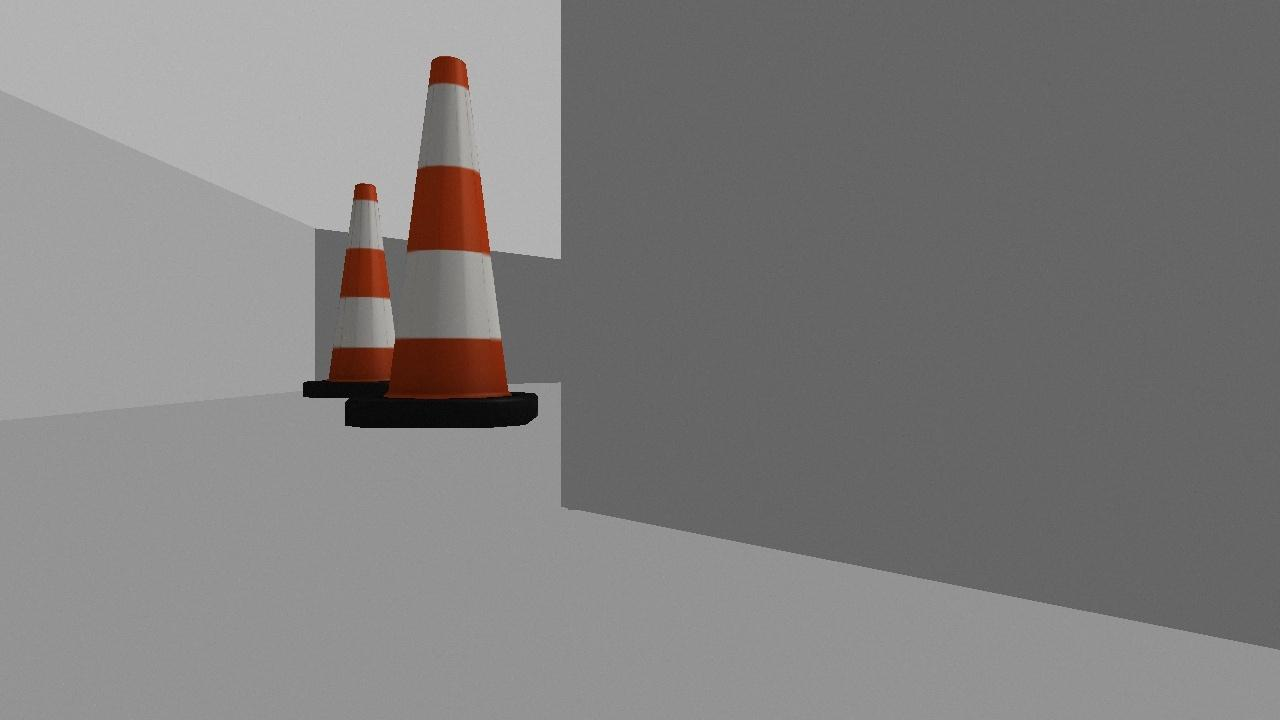cone_barrel: (334, 50, 549, 434), (295, 176, 424, 399)
